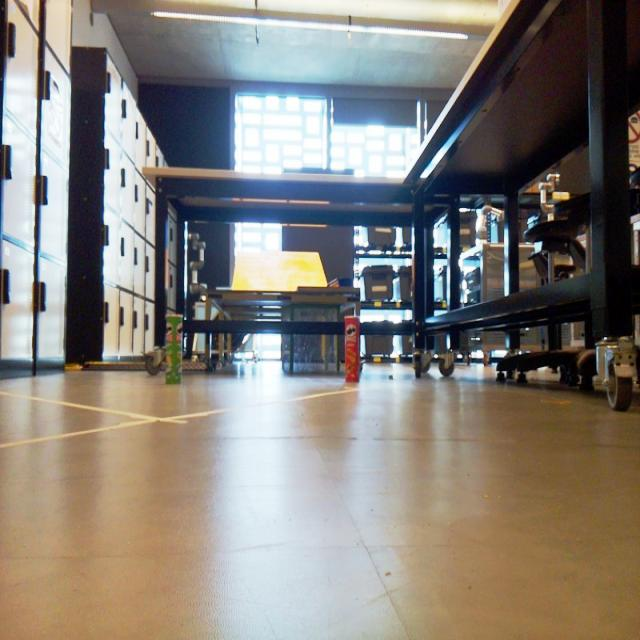greenpringles: (161, 304, 193, 393)
redpringles: (336, 313, 371, 397)
